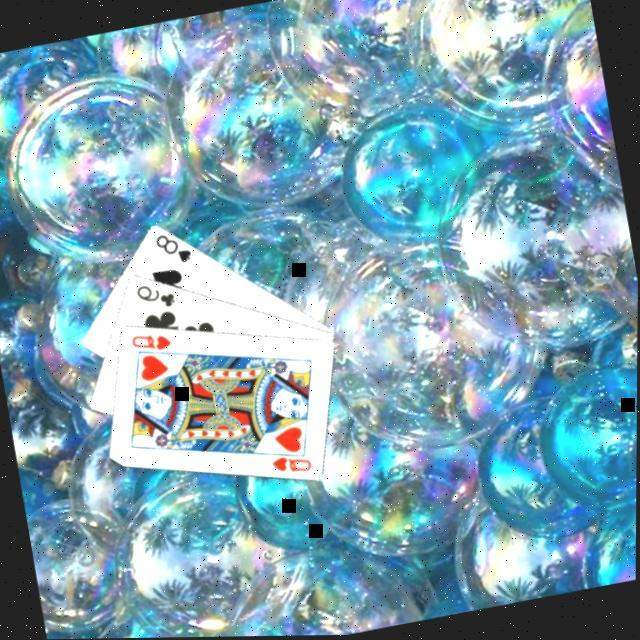8S: (149, 224, 195, 269)
9C: (132, 274, 178, 314)
QH: (262, 439, 316, 480), (126, 324, 174, 356)
